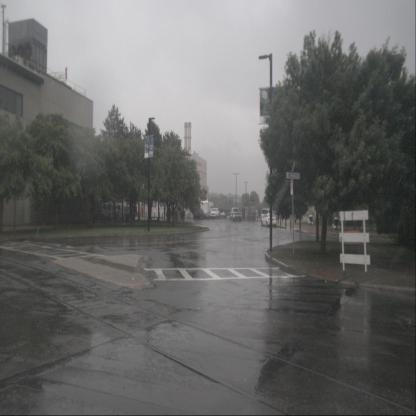vehicle-bus-rigid: (98, 202, 124, 222)
vehicle-car: (166, 205, 186, 220), (261, 213, 277, 227), (261, 208, 273, 222), (194, 208, 204, 220), (210, 208, 220, 219), (220, 212, 226, 220)
vehicle-truck: (229, 208, 242, 222)
